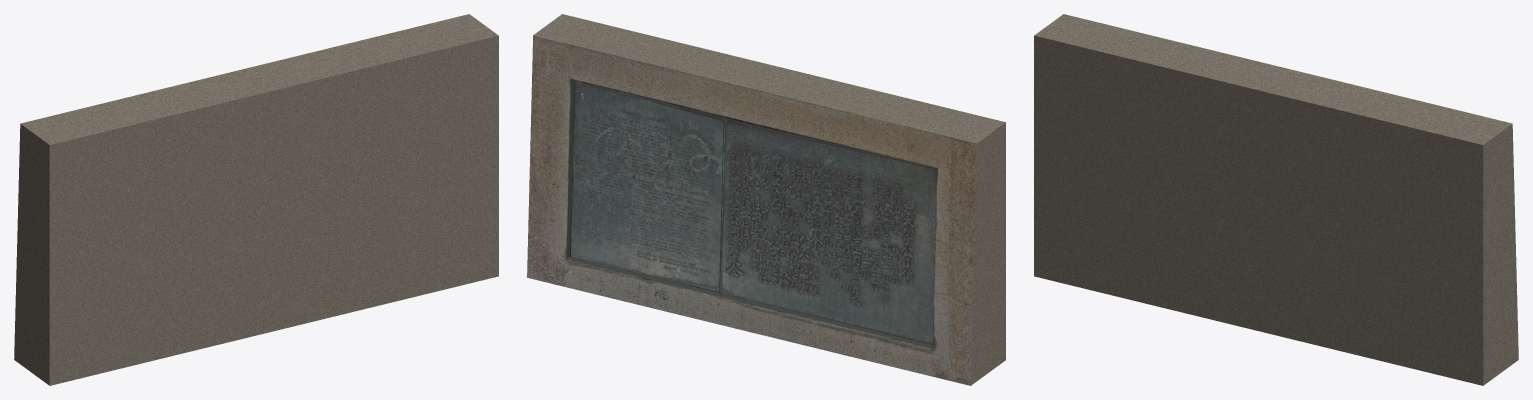
Rendered from hachiko-memorial.glb.
The picture shows the model from 3 angles, left to right: view 1: azimuth 30°, elevation 25°; view 2: azimuth 150°, elevation 25°; view 3: azimuth 330°, elevation 25°; orthographic projection.
Parts seen in each view (by area): view 1: A05_export_A05_UNOBSERVED_granite_closure; view 2: A05_export_A05_observed_patinated_panels_photo_CC_BY_4, A05_export_A05_observed_granite_photo_CC_BY_4, A05_export_A05_UNOBSERVED_granite_closure, A05_export_A05_recess_and_central_joint; view 3: A05_export_A05_UNOBSERVED_granite_closure.
Boxes of the visible parts, x1,y1,x2,y2 form: A05_export_A05_UNOBSERVED_granite_closure: (14,14,498,385); A05_export_A05_observed_patinated_panels_photo_CC_BY_4: (570,80,936,344); A05_export_A05_observed_granite_photo_CC_BY_4: (527,35,976,385); A05_export_A05_UNOBSERVED_granite_closure: (533,14,1005,385); A05_export_A05_recess_and_central_joint: (566,79,932,348); A05_export_A05_UNOBSERVED_granite_closure: (1034,14,1518,385).
Bounding box in the file's own units: 1.6 × 0.82 × 0.22.
4 materials, 3 textured.
